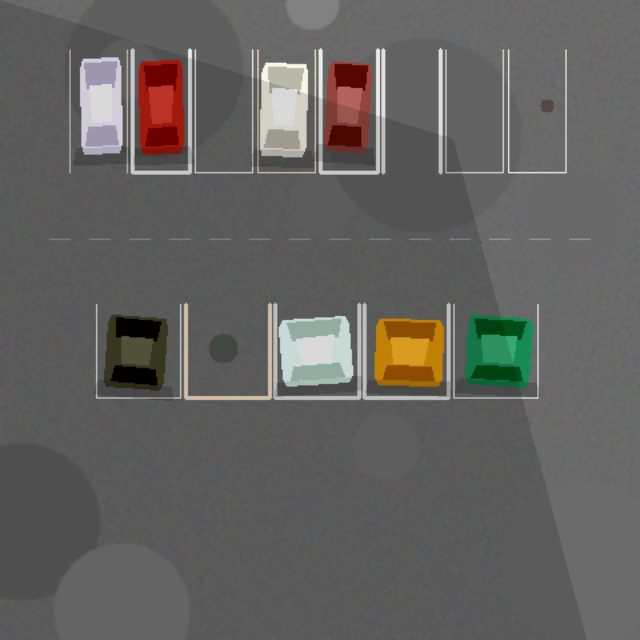space-empty: (185, 304, 269, 397), (445, 49, 503, 172), (195, 49, 252, 172), (383, 49, 440, 172), (508, 49, 565, 172)
space-occupied: (96, 304, 180, 397), (275, 304, 359, 397), (364, 304, 448, 397), (453, 304, 537, 397), (69, 49, 127, 172), (257, 49, 315, 172), (132, 49, 189, 172), (320, 49, 377, 172)
